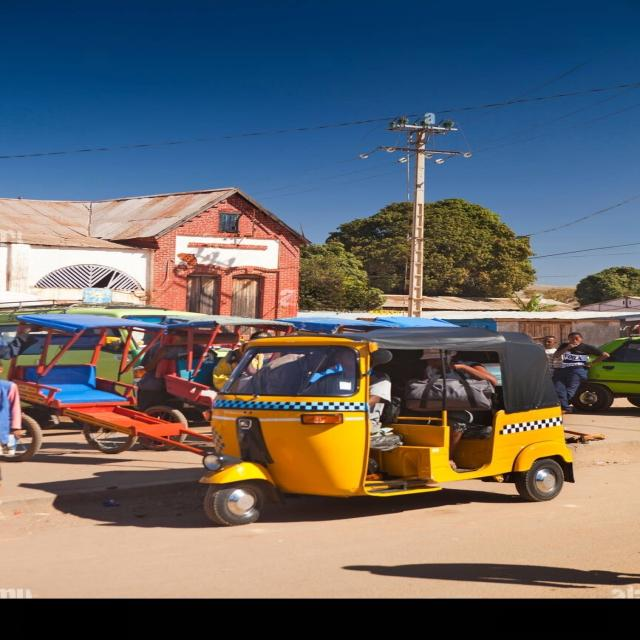autorickshaw: (201, 326, 576, 525)
